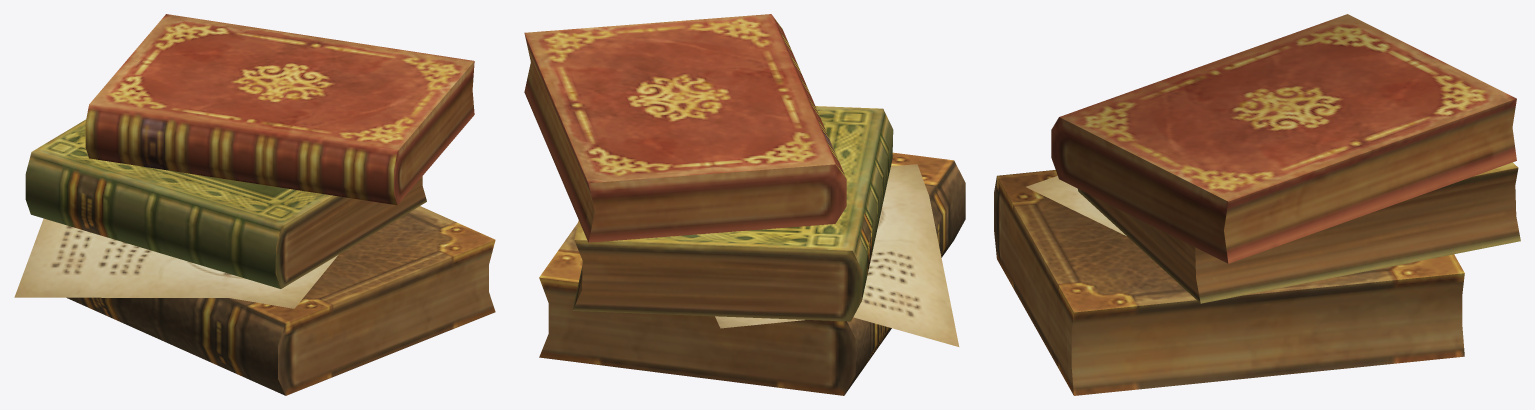
Rendered from Books_Preset_04.FBX.
3 views of the same model, side by side, from view 1: azimuth 30°, elevation 25°; view 2: azimuth 150°, elevation 25°; view 3: azimuth 270°, elevation 25° (orthographic). The views are drawn at different scales.
Visible parts, largest first — view 1: Books_Preset_04; view 2: Books_Preset_04; view 3: Books_Preset_04.
Boxes of the visible parts, x1=… form: Books_Preset_04: x1=14, y1=14, x2=495, y2=395; Books_Preset_04: x1=524, y1=14, x2=965, y2=395; Books_Preset_04: x1=994, y1=14, x2=1520, y2=395.
Size of the model in its own units: 43.86 by 40.64 by 18.73.
